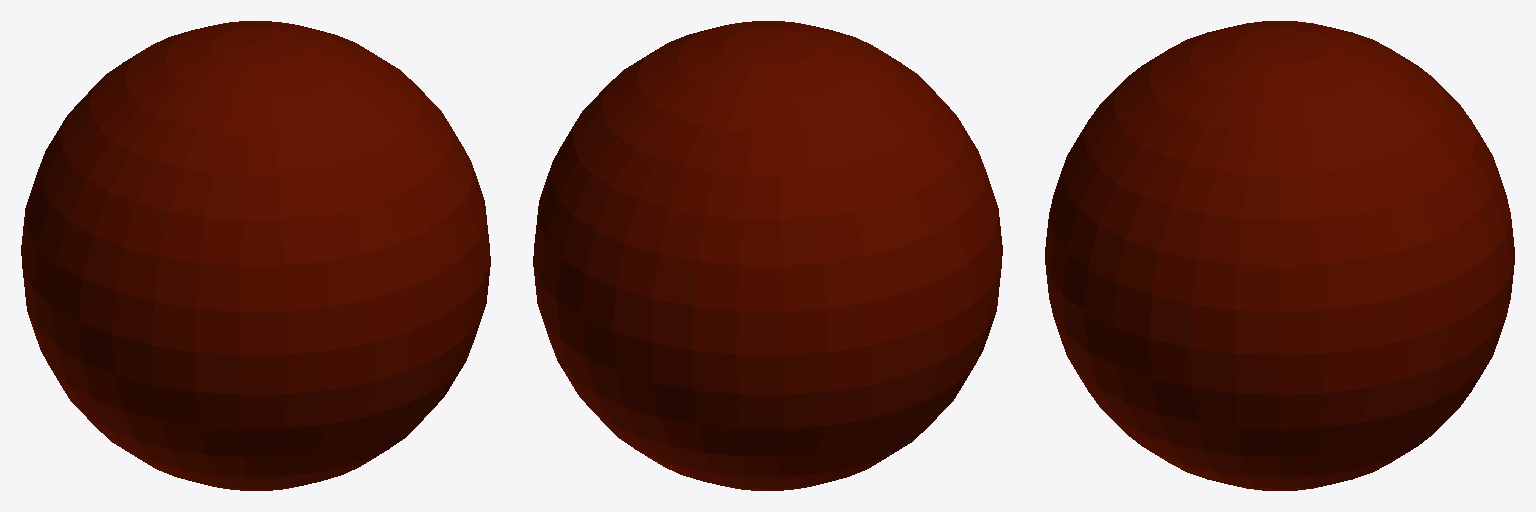
The model's file is specMapSphere.obj.
3 views of the same model, side by side, from view 1: azimuth 30°, elevation 25°; view 2: azimuth 150°, elevation 25°; view 3: azimuth 270°, elevation 25° (orthographic).
Parts seen in each view (by area): view 1: Sphere; view 2: Sphere; view 3: Sphere.
Boxes of the visible parts, x1=… form: Sphere: x1=21, y1=21, x2=490, y2=490; Sphere: x1=533, y1=21, x2=1002, y2=490; Sphere: x1=1045, y1=21, x2=1514, y2=490.
Bounding box in the file's own units: 2 × 2 × 2.